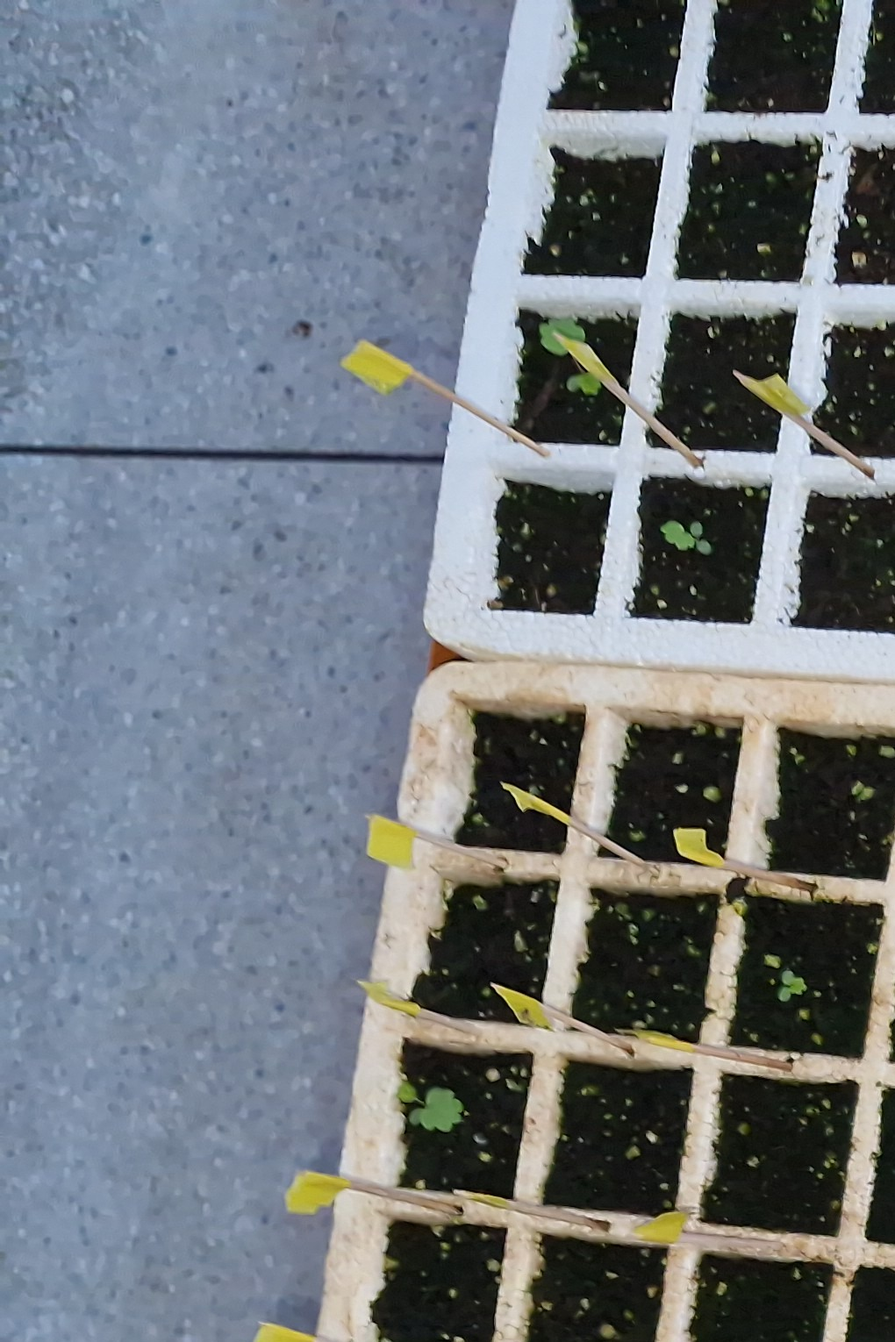Folha: (420, 1087, 463, 1132), (396, 1079, 416, 1103), (789, 977, 806, 995), (410, 1108, 421, 1125), (782, 971, 794, 985), (779, 987, 791, 1001)
Germinacao: (397, 1078, 465, 1131), (778, 971, 808, 1001)
